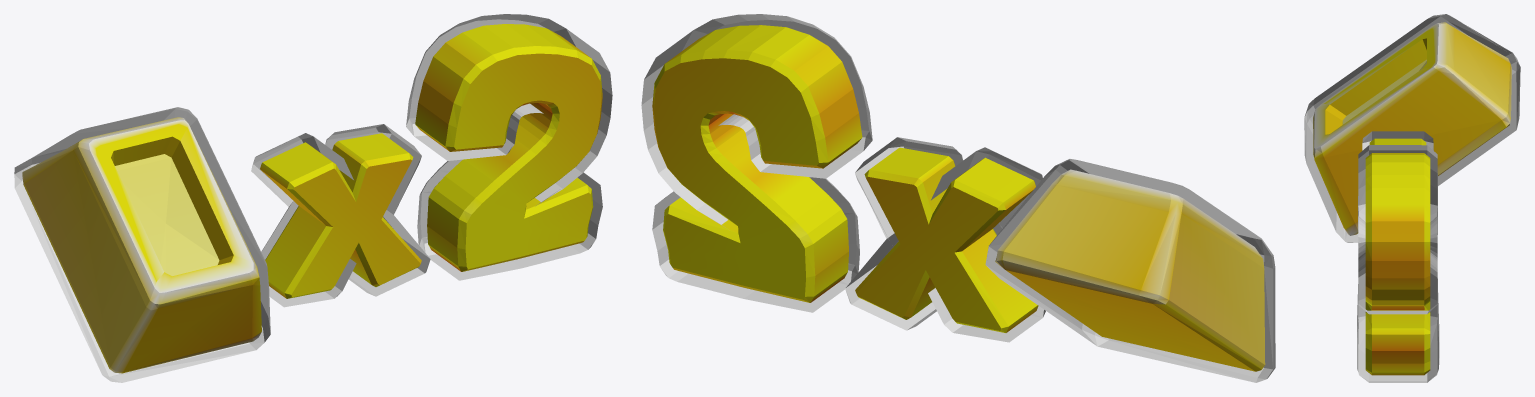
Rendered from X2Gold.glb.
The picture shows the model from 3 angles, left to right: view 1: azimuth 30°, elevation 25°; view 2: azimuth 150°, elevation 25°; view 3: azimuth 270°, elevation 25°; orthographic projection. The views are drawn at different scales.
Parts seen in each view (by area): view 1: brick_outline, two_outline, x_outline; view 2: two_outline, brick_outline, x_outline; view 3: brick_outline, two_outline, x_outline.
Boxes of the visible parts, box(x1,y1,x2,y2) form: brick_outline: box(14, 107, 270, 382); two_outline: box(406, 14, 612, 280); x_outline: box(251, 124, 430, 307); two_outline: box(641, 14, 872, 312); brick_outline: box(985, 159, 1275, 382); x_outline: box(845, 137, 1045, 342); brick_outline: box(1304, 14, 1520, 242); two_outline: box(1357, 145, 1439, 382); x_outline: box(1362, 131, 1433, 150).
Bounding box in the file's own units: 1.27 × 0.5436 × 0.5259.
